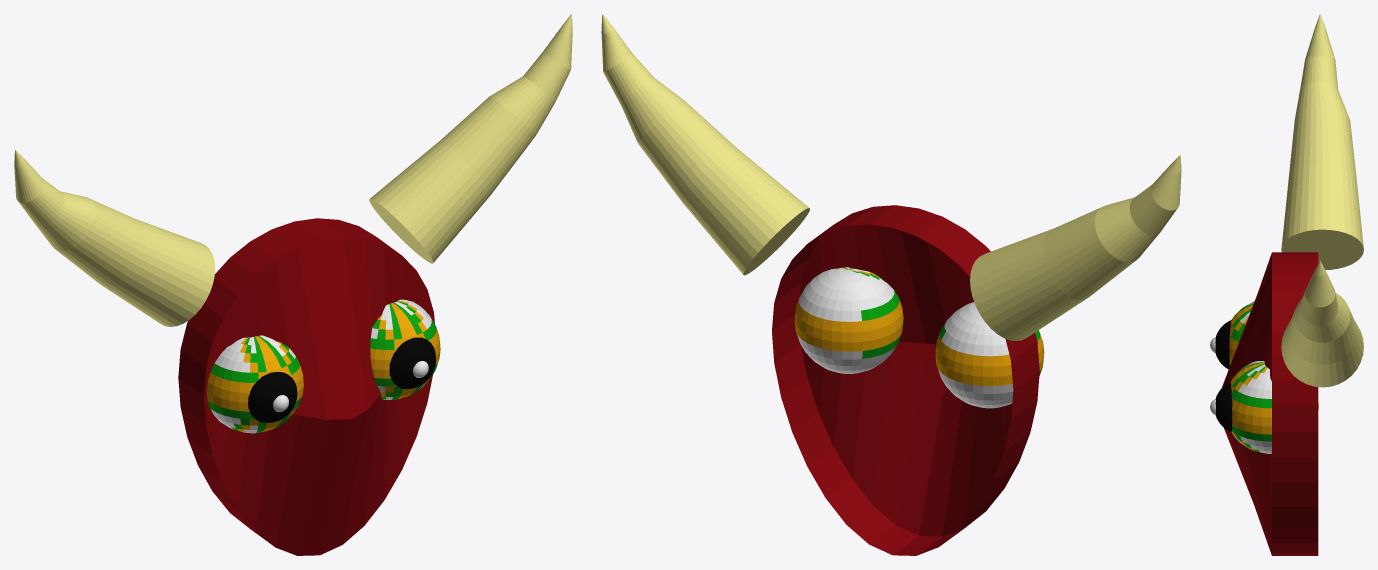
Rendered from mascara diablada2.glb.
3 views of the same model, side by side, from view 1: azimuth 30°, elevation 25°; view 2: azimuth 150°, elevation 25°; view 3: azimuth 270°, elevation 25° (orthographic). The views are drawn at different scales.
Parts seen in each view (by area): view 1: Circle.001; view 2: Circle.001; view 3: Circle.001.
Part boxes in pixels (<box>): Circle.001: <box>14,14,572,555</box>; Circle.001: <box>601,14,1181,555</box>; Circle.001: <box>1210,14,1363,555</box>.
Size of the model in its own units: 3.74 by 2.92 by 0.985.
